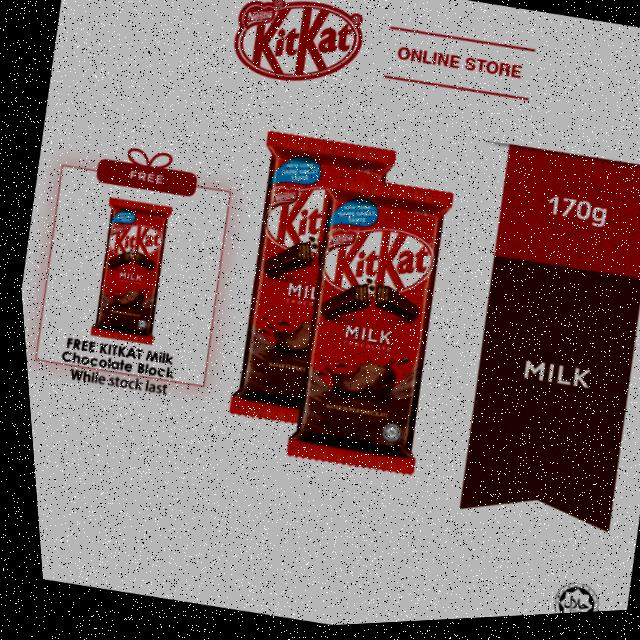kitkat: (203, 121, 413, 446), (265, 171, 470, 485)
